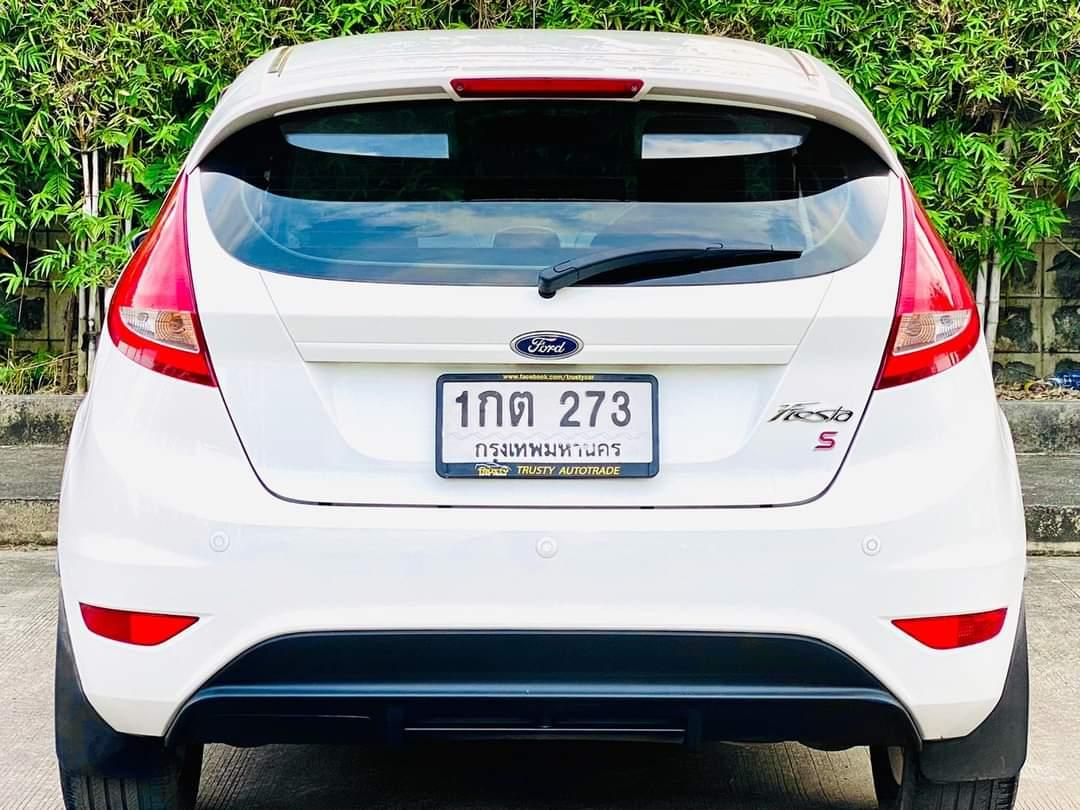license-plate: (434, 368, 664, 481)
